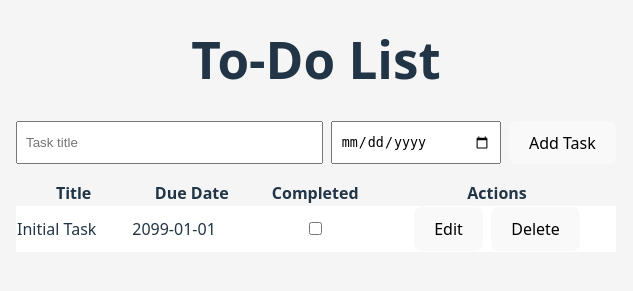
Test case: user can add todo
The image size is (633, 291).
Type "New Task" into the field with test id "task-title-input" at {"x": 169, "y": 143}, box [16, 121, 323, 164]
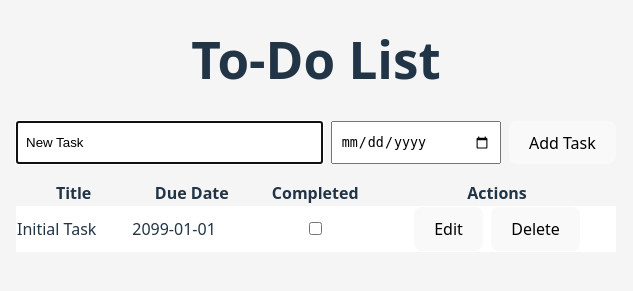
Type "2099-12-31" into the date field with test id "task-due-input" at {"x": 416, "y": 143}, box [331, 121, 501, 164]
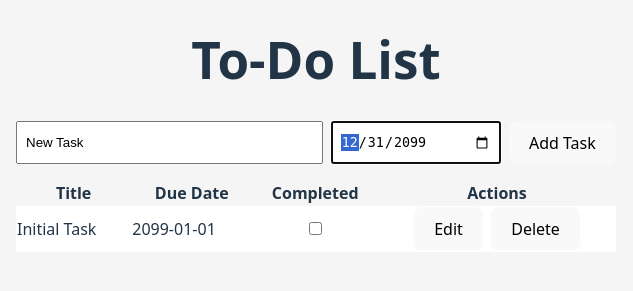
Click the button with test id "task-submit-btn" at {"x": 562, "y": 143}, box [509, 121, 616, 164]
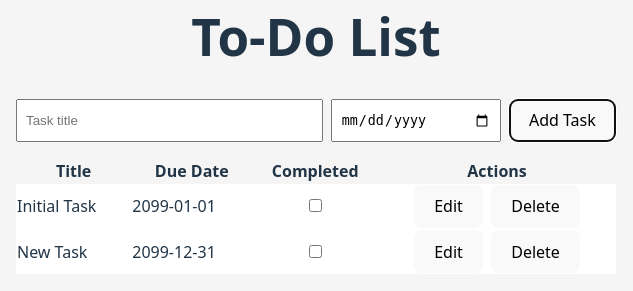
Check: the row with test id "todo-row-1" is shown, box [16, 229, 616, 274]
Check: the text "New Task" is shown, box [16, 229, 131, 274]
